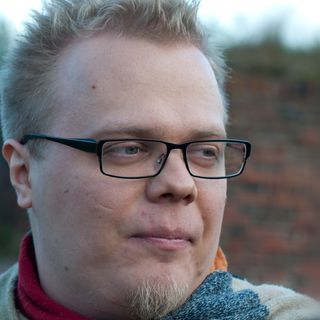eye: (109, 140, 154, 163), (187, 141, 227, 165)
